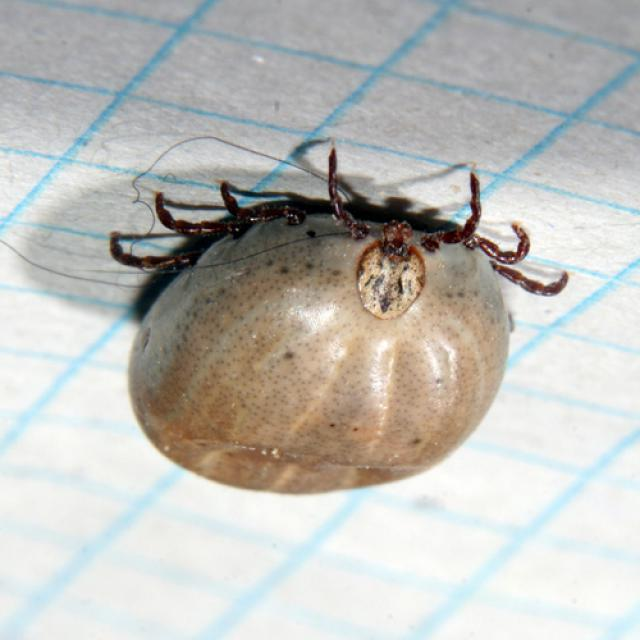Dermacentor Reticulatus-F-Fed: (120, 154, 568, 495)
